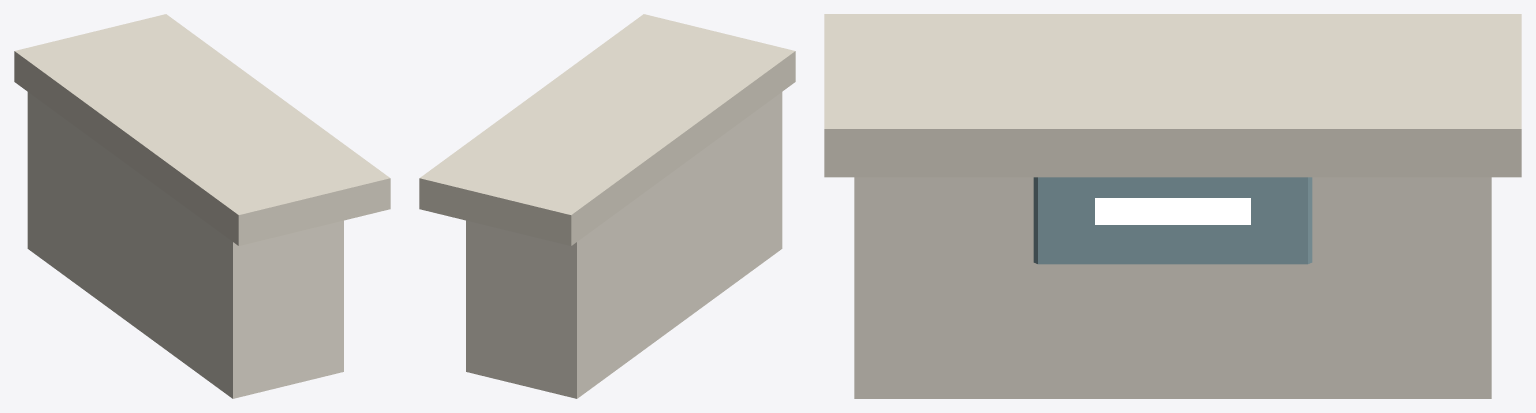
File: prop_shop_counter_v4_ShadowProxy.glb
3 renders of one model, left to right at view 1: azimuth 30°, elevation 25°; view 2: azimuth 150°, elevation 25°; view 3: azimuth 270°, elevation 25°, orthographic. The views are drawn at different scales.
Visible parts, largest first — view 1: prop_shop_counter_v4_ShadowProxy / Primary assembly; view 2: prop_shop_counter_v4_ShadowProxy / Primary assembly; view 3: prop_shop_counter_v4_ShadowProxy / Primary assembly.
Boxes of the visible parts, <box> form: prop_shop_counter_v4_ShadowProxy / Primary assembly: <box>14,14,390,398</box>; prop_shop_counter_v4_ShadowProxy / Primary assembly: <box>419,14,795,398</box>; prop_shop_counter_v4_ShadowProxy / Primary assembly: <box>824,14,1521,398</box>.
Bounding box in the file's own units: 0.82 × 0.99 × 2.1.
